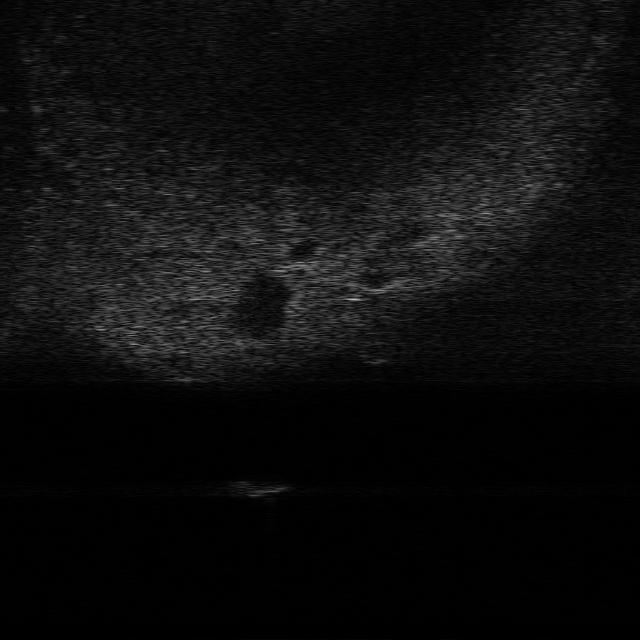ball: (355, 340, 394, 366)
cube: (228, 481, 292, 496)
